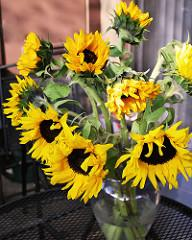sunflower: (116, 122, 192, 192), (45, 133, 112, 201), (17, 106, 73, 163), (108, 70, 159, 120), (63, 31, 111, 74), (3, 74, 43, 125), (106, 1, 152, 44), (173, 39, 192, 80)
